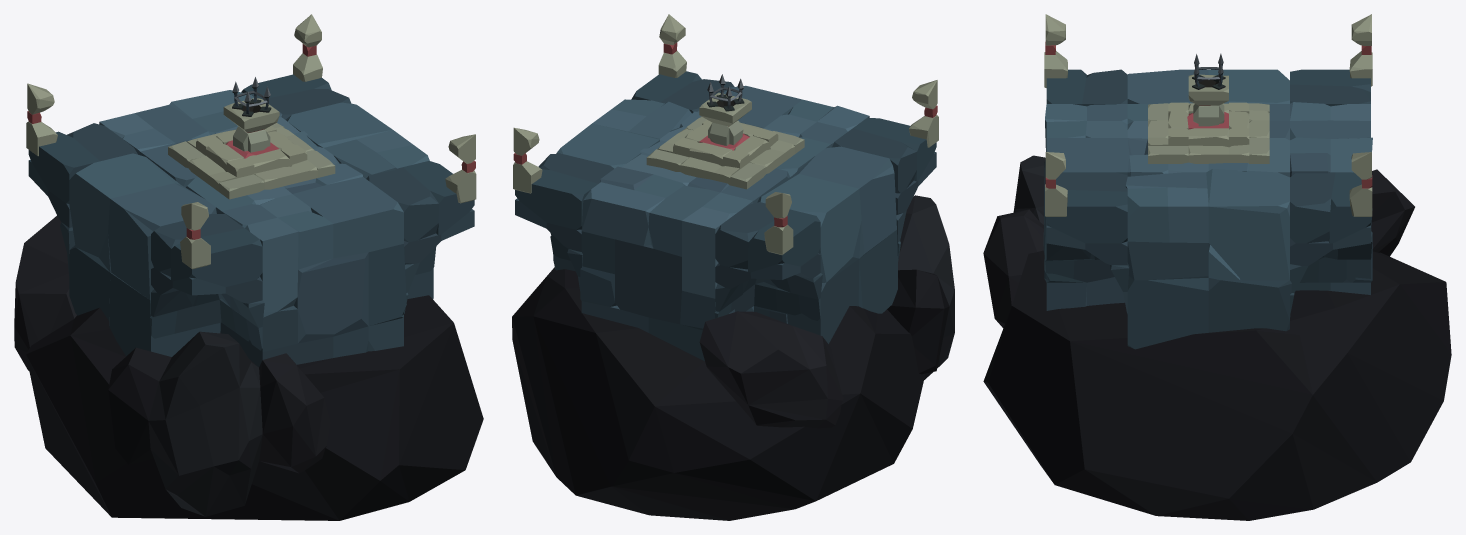
The model's file is hallway_cross_01.fbx.
3 renders of one model, left to right at view 1: azimuth 30°, elevation 25°; view 2: azimuth 150°, elevation 25°; view 3: azimuth 270°, elevation 25°, orthographic. The views are drawn at different scales.
Parts seen in each view (by area): view 1: hallway_cross_01; view 2: hallway_cross_01; view 3: hallway_cross_01.
Part boxes in pixels (x1=…): hallway_cross_01: x1=14, y1=14, x2=483, y2=520; hallway_cross_01: x1=512, y1=14, x2=954, y2=520; hallway_cross_01: x1=983, y1=14, x2=1451, y2=520.
Bounding box in the file's own units: 1083 × 1133 × 1154.
